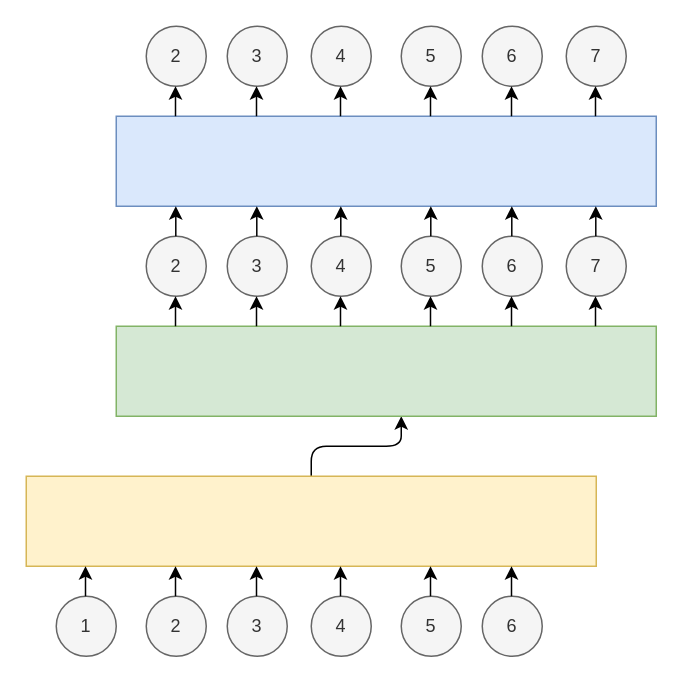
Image size: 683x683. Some labels were removed from this diagram. Each missing label, with the box of its shape:
Embedding: (25, 475, 596, 566)
Linear: (115, 115, 656, 206)
LSTM: (115, 325, 656, 416)
